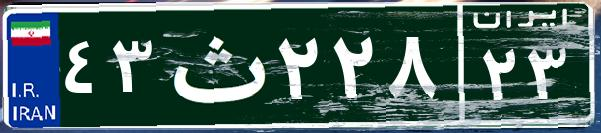2: (273, 28, 330, 110), (330, 28, 385, 110), (475, 38, 525, 113)
3: (110, 28, 158, 105), (525, 38, 570, 115)
4: (57, 26, 110, 107)
8: (385, 28, 445, 110)
ث: (158, 15, 273, 115)
